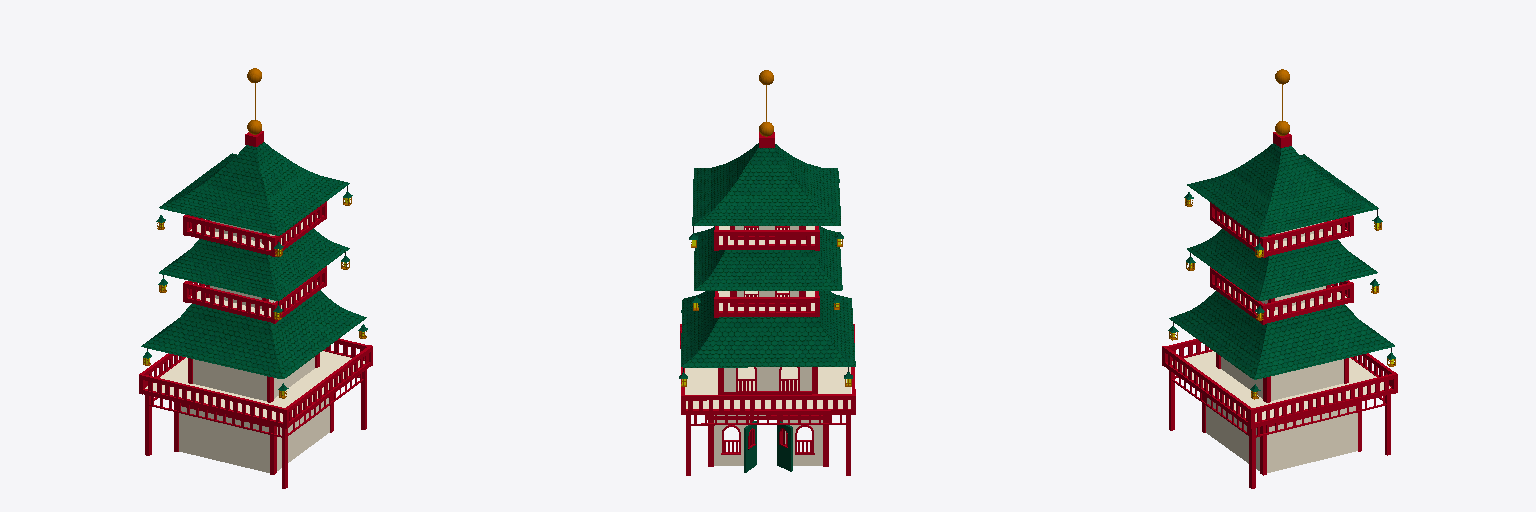
3 renders of one model, left to right at view 1: azimuth 30°, elevation 25°; view 2: azimuth 150°, elevation 25°; view 3: azimuth 270°, elevation 25°, orthographic.
Parts seen in each view (by area): view 1: House:House1; view 2: House:House1; view 3: House:House1.
Boxes of the visible parts, x1,y1,x2,y2 form: House:House1: [139, 68, 372, 488]; House:House1: [679, 70, 855, 475]; House:House1: [1162, 69, 1397, 488].
Size of the model in its own units: 11.43 by 19.77 by 11.35.
1 materials, 1 textured.